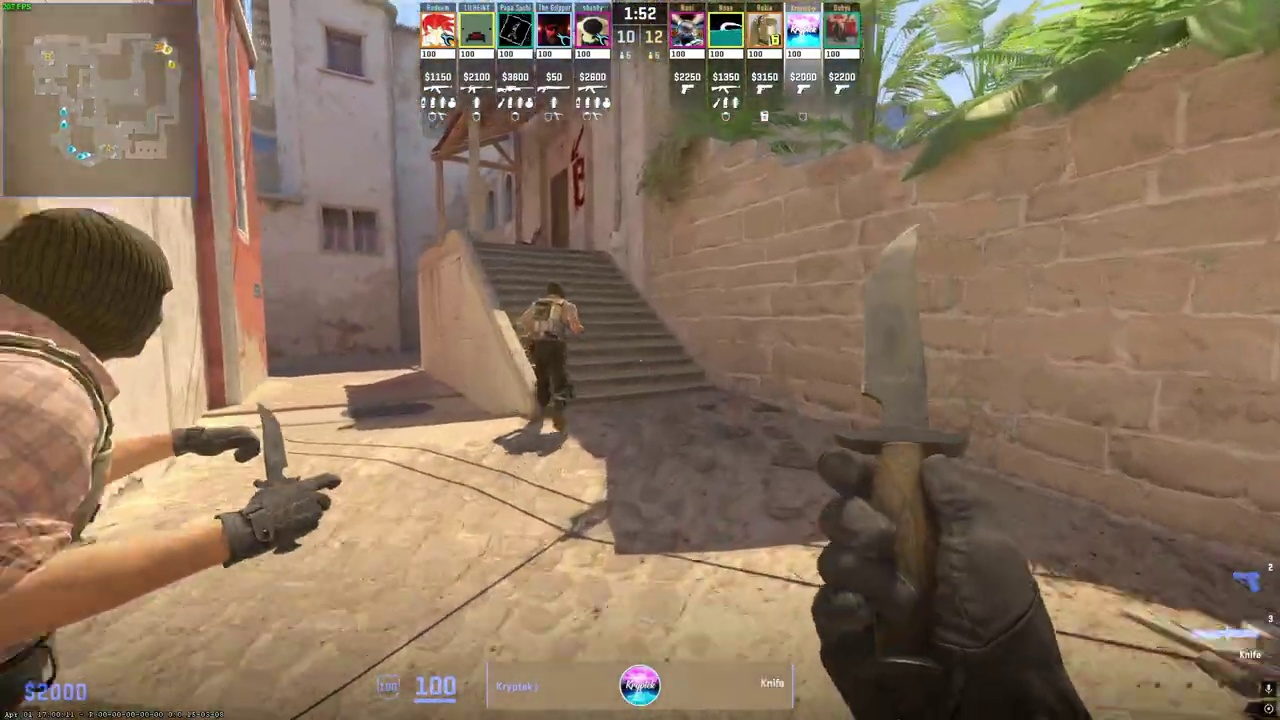Terrorist: (0, 209, 166, 720), (521, 281, 583, 436)
